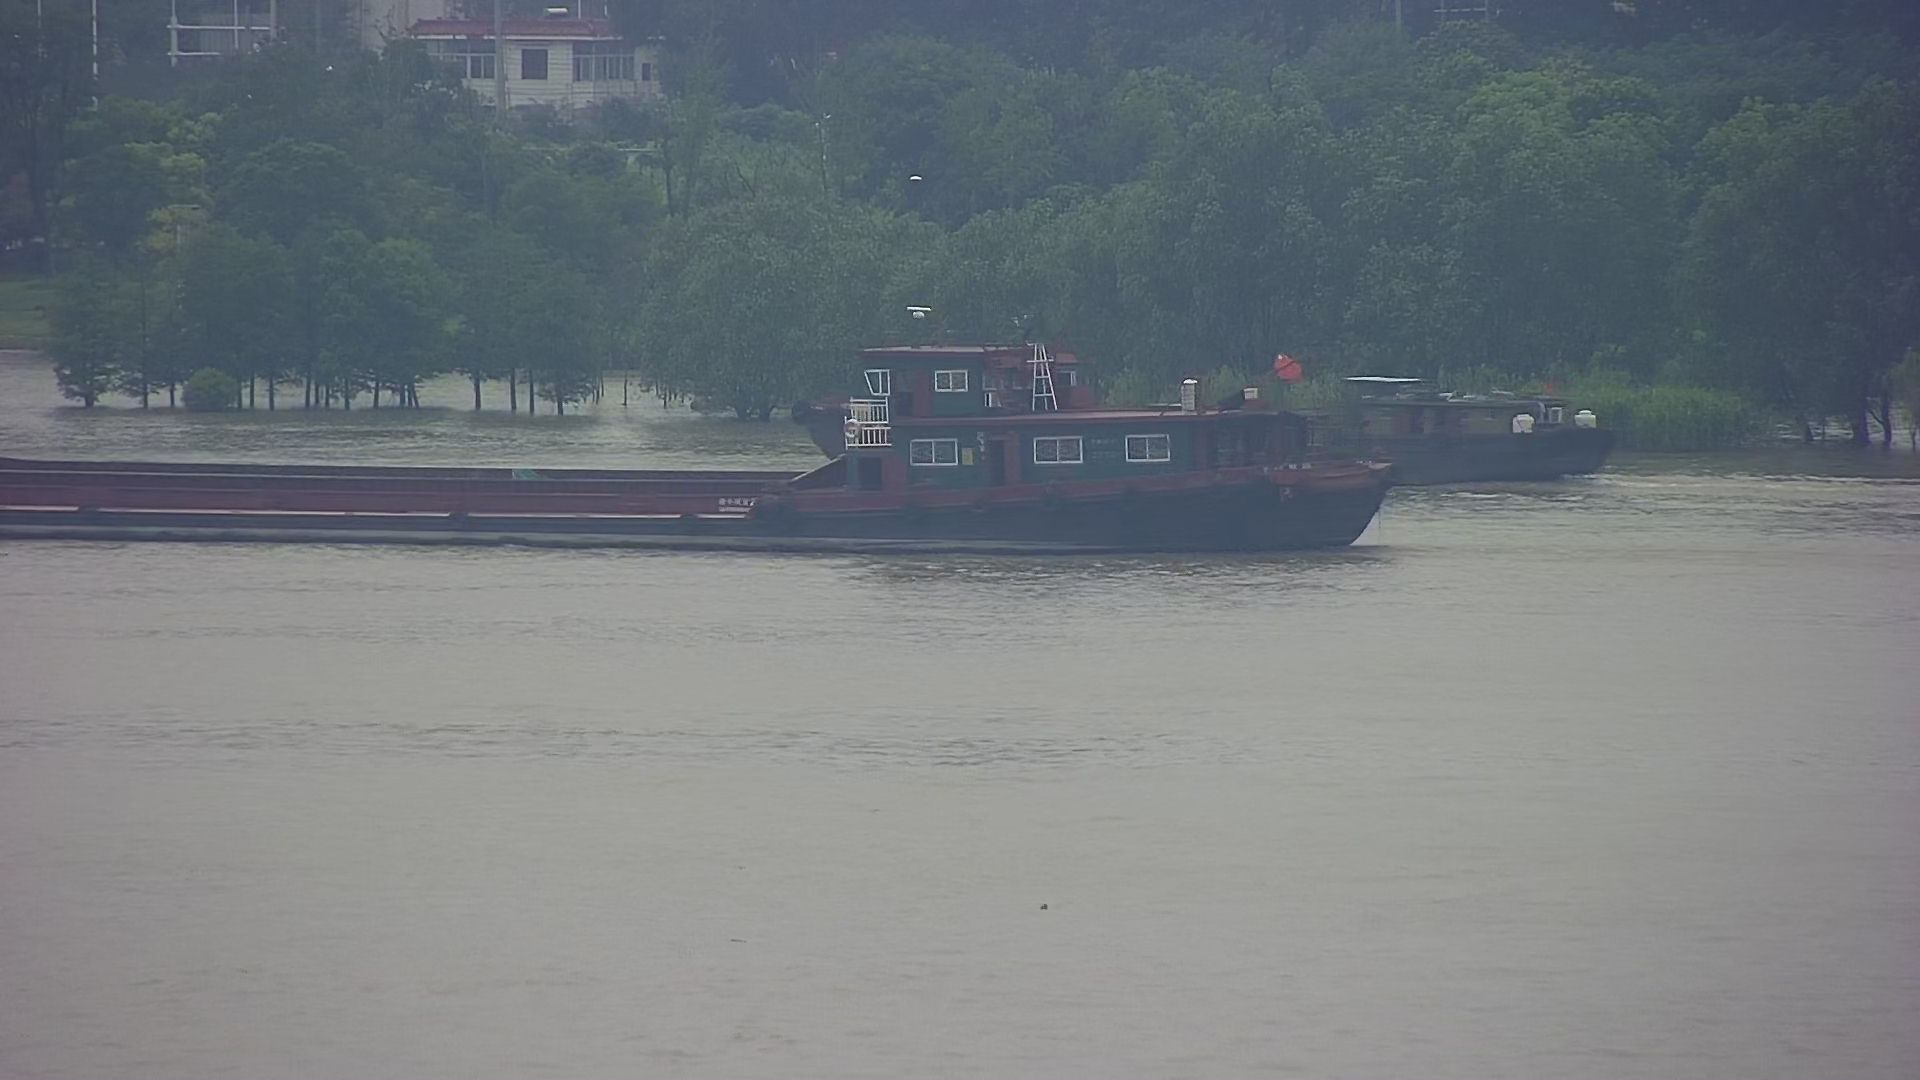ship: (1, 294, 1408, 579), (1308, 359, 1622, 495)
